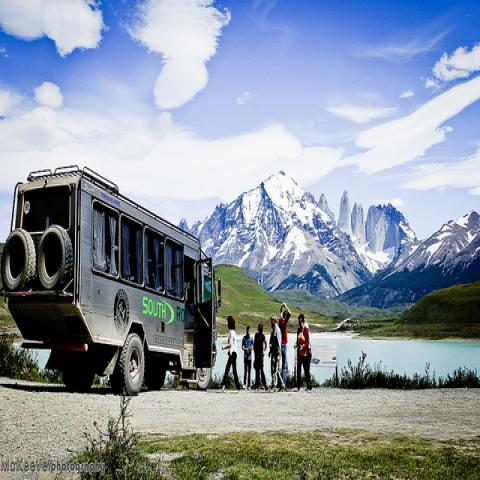bus: (1, 165, 222, 394)
